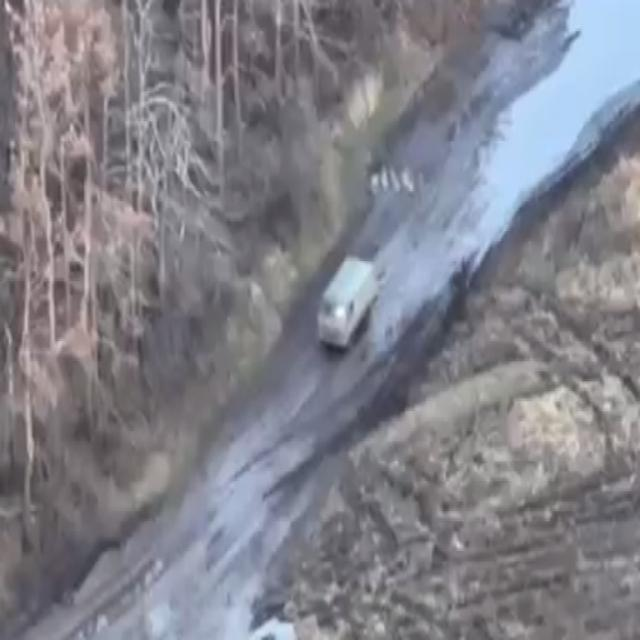CAR: (317, 252, 375, 350)
